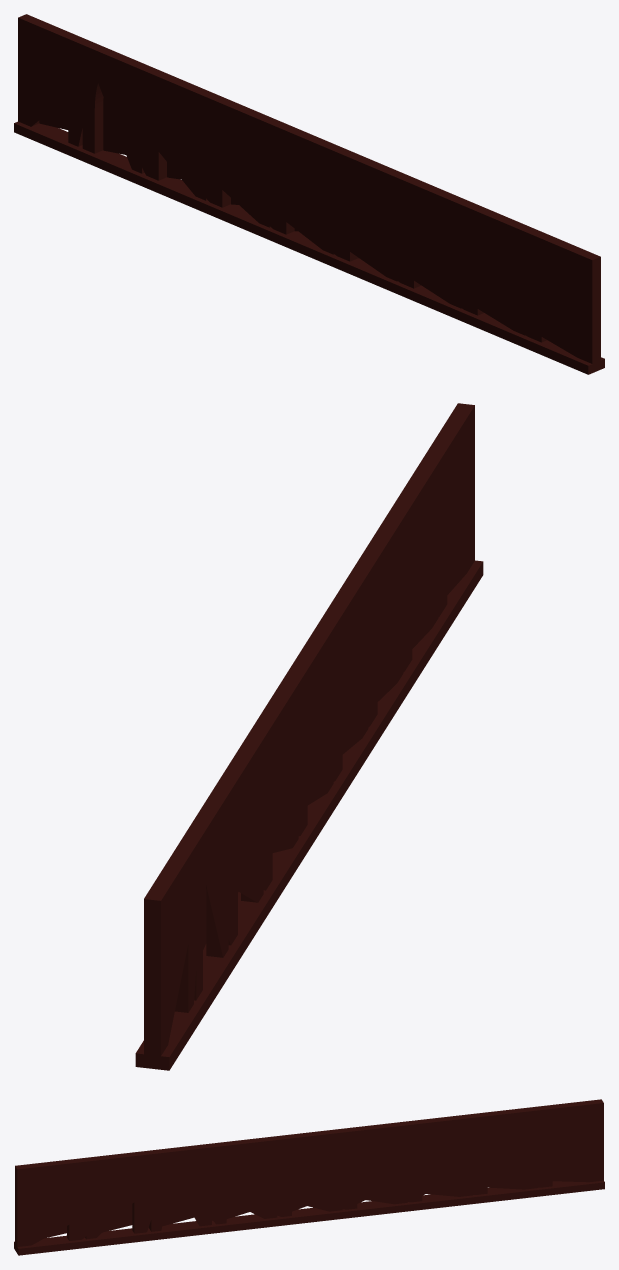
File: Barjerka2.fbx
3 renders of one model, top to bottom at view 1: azimuth 30°, elevation 25°; view 2: azimuth 150°, elevation 25°; view 3: azimuth 270°, elevation 25°, orthographic. The views are drawn at different scales.
Visible parts, largest first — view 1: Cube.019; view 2: Cube.019; view 3: Cube.019.
Boxes of the visible parts, x1=… form: Cube.019: x1=14, y1=14, x2=604, y2=374; Cube.019: x1=135, y1=403, x2=483, y2=1070; Cube.019: x1=14, y1=1099, x2=604, y2=1255.
Bounding box in the file's own units: 1.49 × 0.7987 × 5.07.
